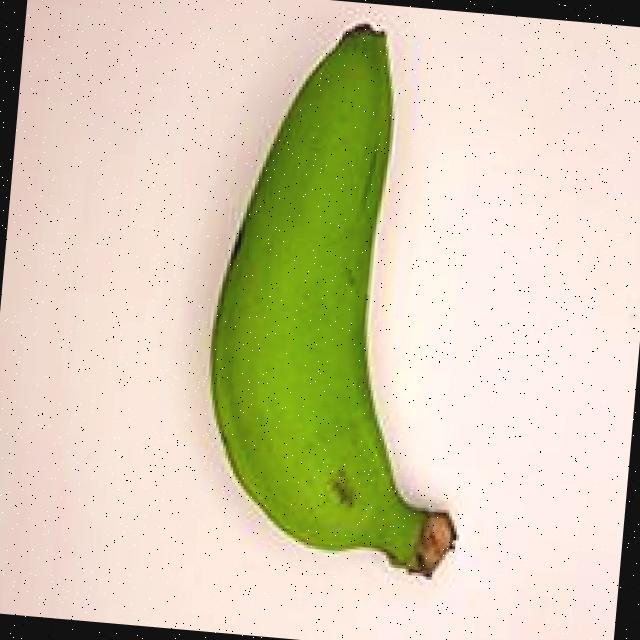Raw: (157, 0, 525, 613)
